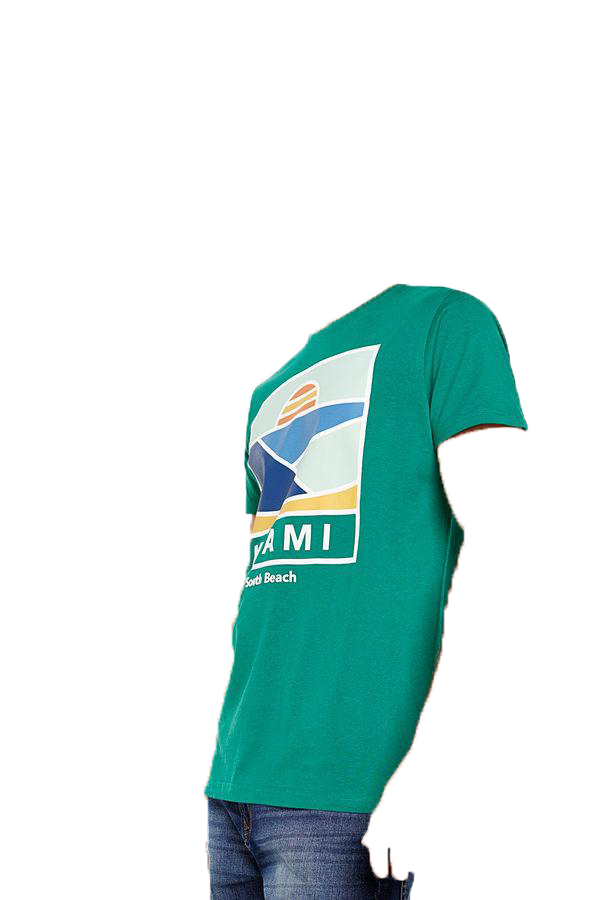teeshirt: (198, 282, 563, 817)
